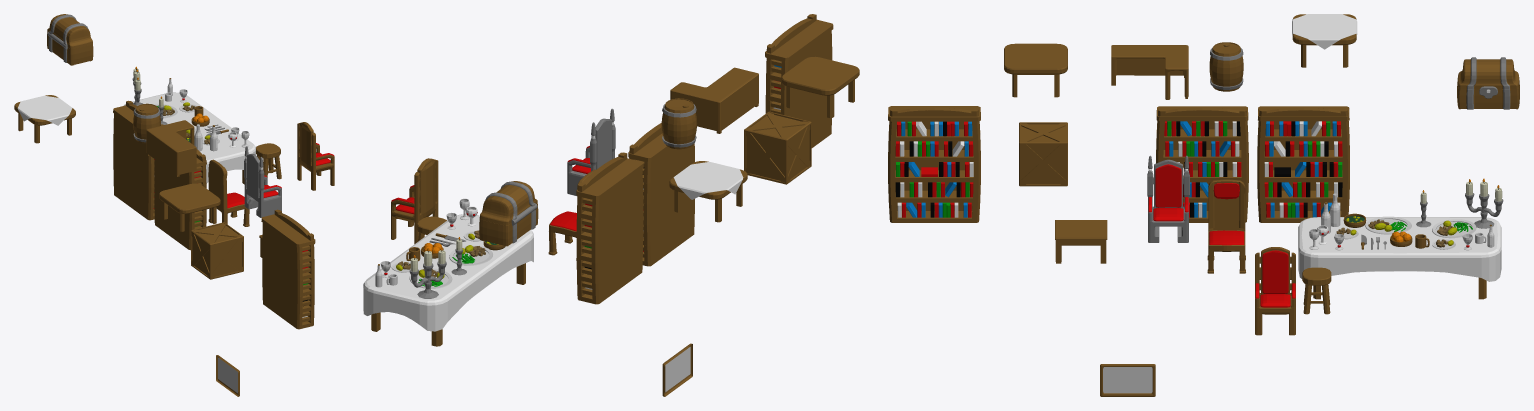
File: low poly house furniture by niko.fbx
The picture shows the model from 3 angles, left to right: view 1: azimuth 30°, elevation 25°; view 2: azimuth 150°, elevation 25°; view 3: azimuth 270°, elevation 25°; orthographic projection. The views are drawn at different scales.
Visible parts, largest first — view 1: Cube.020, Cube.023, Cube.002, Cube.024, Plane, Cube.017, Cube.009, Cube.013, Cube.008, Cube.011, Cube.027, Plane.001 (+5 smaller); view 2: Cube.023, Plane, Cube.024, Cube.020, Cube.002, Cube.017, Cube.013, Cube.008, Cube.027, Cube.009, Plane.001, Cube.090 (+7 smaller); view 3: Plane, Cube.020, Cube.023, Cube.021, Cube.022, Cube.024, Cube.025, Cube.002, Cube.009, Cube.011, Cube.008, Cube.017 (+11 smaller).
Part boxes in pixels (x1,y1,x2,y2): Cube.020: [261, 209, 315, 329]; Cube.023: [113, 100, 163, 220]; Cube.002: [191, 222, 243, 279]; Cube.024: [154, 149, 206, 250]; Plane: [123, 92, 255, 183]; Cube.017: [146, 120, 196, 176]; Cube.009: [244, 146, 281, 217]; Cube.013: [159, 183, 220, 231]; Cube.008: [297, 122, 334, 190]; Cube.011: [208, 159, 249, 226]; Cube.027: [47, 14, 92, 49]; Plane.001: [17, 95, 72, 125]; Cube.023: [576, 152, 643, 304]; Plane: [363, 214, 533, 331]; Cube.024: [628, 123, 694, 266]; Cube.020: [765, 14, 833, 147]; Cube.002: [744, 111, 811, 184]; Cube.017: [670, 67, 758, 133]; Cube.013: [781, 56, 859, 118]; Cube.008: [391, 158, 438, 243]; Cube.027: [479, 181, 537, 225]; Cube.009: [567, 108, 615, 195]; Plane.001: [673, 161, 743, 199]; Cube.090: [661, 98, 697, 149]; Plane: [1298, 217, 1501, 281]; Cube.020: [888, 106, 980, 222]; Cube.023: [1257, 106, 1349, 222]; Cube.021: [895, 121, 973, 217]; Cube.022: [1264, 121, 1342, 217]; Cube.024: [1156, 106, 1248, 222]; Cube.025: [1164, 121, 1241, 217]; Cube.002: [1019, 122, 1067, 186]; Cube.009: [1147, 155, 1189, 242]; Cube.011: [1207, 179, 1245, 273]; Cube.008: [1255, 247, 1295, 335]; Cube.017: [1111, 45, 1188, 99].
Size of the model in its own units: 2582 by 2311 by 4024.
